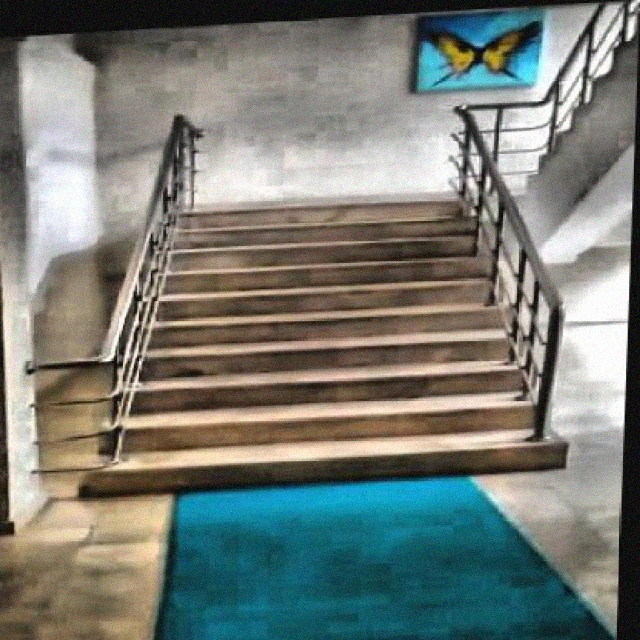stair: (91, 183, 583, 495)
